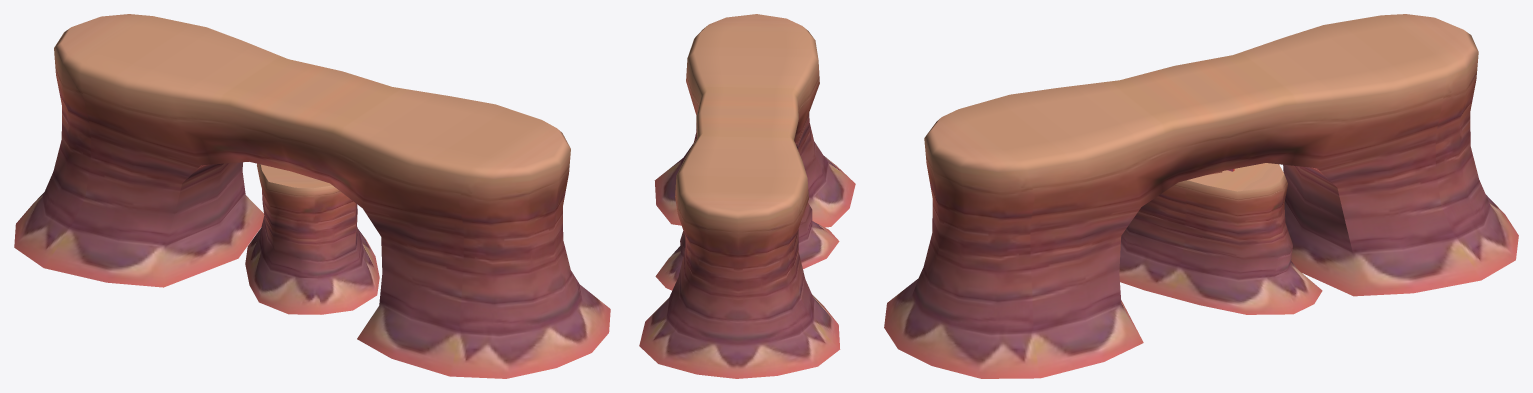
Rendered from rhprops.glb.
The picture shows the model from 3 angles, left to right: view 1: azimuth 30°, elevation 25°; view 2: azimuth 150°, elevation 25°; view 3: azimuth 270°, elevation 25°; orthographic projection. The views are drawn at different scales.
Visible parts, largest first — view 1: RH_Rock_Arch_m, RH_Rock_Big_m; view 2: RH_Rock_Arch_m, RH_Rock_Big_m; view 3: RH_Rock_Arch_m, RH_Rock_Big_m.
Boxes of the visible parts, left/top/right/bottom form: RH_Rock_Arch_m: left=14, top=14, right=610, bottom=378; RH_Rock_Big_m: left=245, top=163, right=379, bottom=314; RH_Rock_Arch_m: left=639, top=14, right=855, bottom=378; RH_Rock_Big_m: left=655, top=202, right=839, bottom=290; RH_Rock_Arch_m: left=884, top=14, right=1518, bottom=378; RH_Rock_Big_m: left=1119, top=163, right=1322, bottom=314.
Size of the model in its own units: 47.37 by 22 by 65.29.
Materials: 3 (2 with a texture image).
